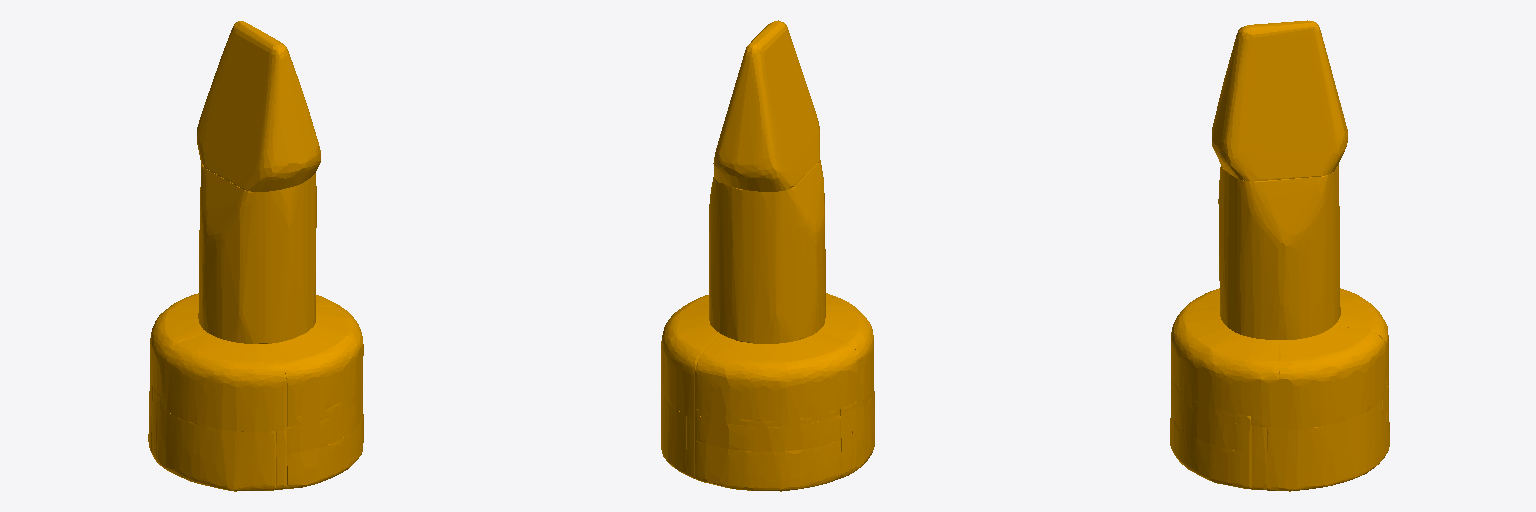
The robot description file, URDF, robot "072-e_toy_airplane":
<?xml version="1.0" encoding="UTF-8"?>
<robot name="072-e_toy_airplane">
	<link name="base">
		<collision>
			<geometry>
				<mesh filename="..\vhacd\072-e_toy_airplane_vhacd.obj" scale="1.0 1.0 1.0"/>
			</geometry>
			<origin xyz="0 0 0"/>
			<contact_coefficients mu="0.24" />
		</collision>
		<visual>
			<geometry>
				<mesh filename="..\vhacd\072-e_toy_airplane_vhacd.obj" scale="1.0 1.0 1.0"/>
			</geometry>
			<origin xyz="0 0 0"/>
		</visual>
		<inertial>
			<mass value="0"/>
			<inertia ixx="0.0" ixy="0.0" ixz="-0.0" iyy="0.0" iyz="0.0" izz="0.0" />
			<origin xyz="-0.01546105261557002 -0.007752454033810018 0.02185994027769241"/>
		</inertial>
	</link>
</robot>

--- Facts derived from the render (not from the file) ---
3 views of the same robot in one strip: view 1: azimuth 30°, elevation 25°; view 2: azimuth 150°, elevation 25°; view 3: azimuth 270°, elevation 25° (orthographic).
Model 072-e_toy_airplane with 1 links and 0 joints (none), rooted at base, posed all joints at 0.
Links seen in each view (by area): view 1: base; view 2: base; view 3: base.
Link boxes in pixels (x1,y1,x2,y2): base: [148, 21, 363, 491]; base: [661, 20, 874, 491]; base: [1170, 20, 1389, 491].
Size in the robot's own frame: 0.0309 by 0.0309 by 0.0663 metres.
Meshes: 1 distinct files referenced, 1 mesh visuals loaded (1 OBJ).